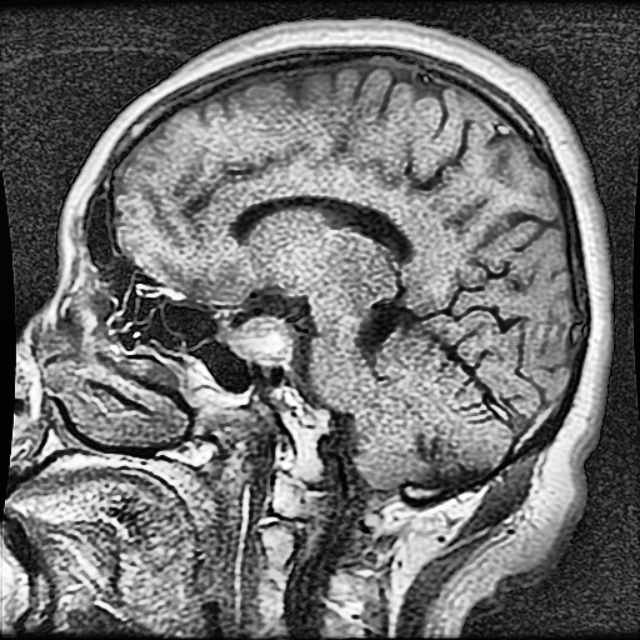Pituitary: (222, 319, 293, 367)
